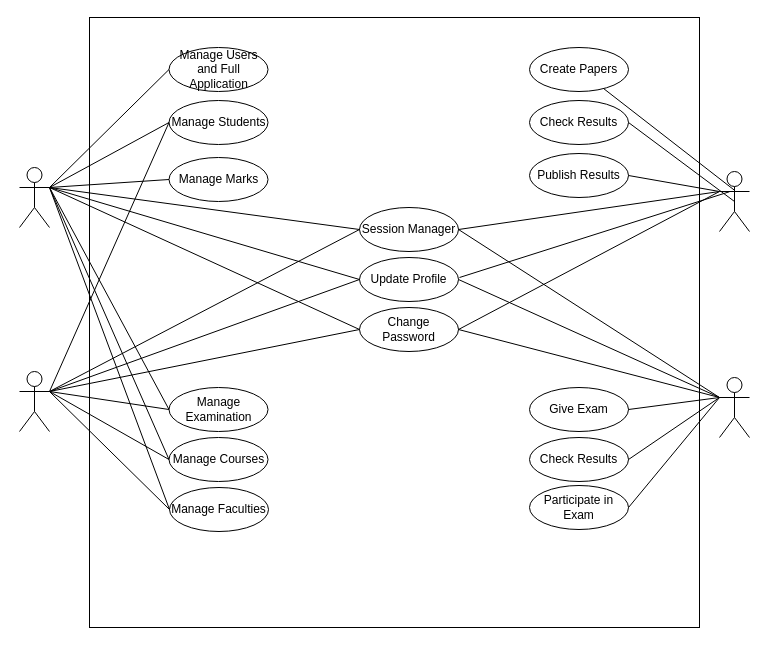
The diagram is 777 pixels wide and 645 high, and some of its shapes have lost their labels. Each missing label, with the centre of its shape:
Admin: point (34, 197)
Examiner: point (734, 201)
Student: point (734, 407)
User: point (34, 401)
